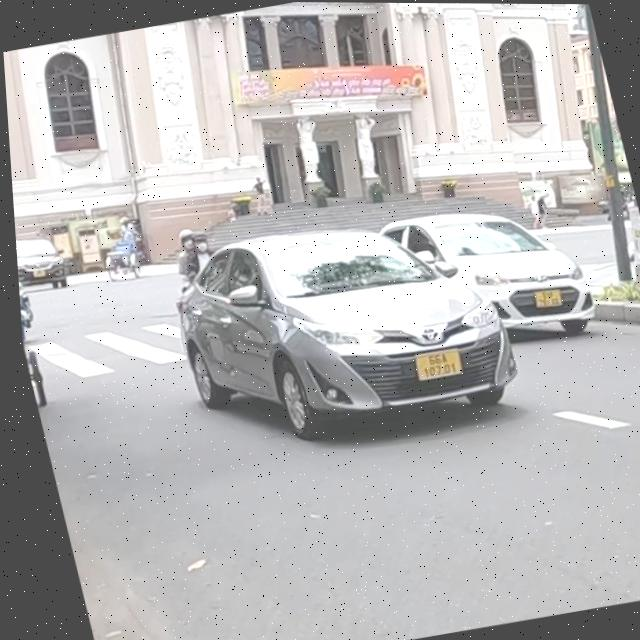car: (155, 194, 535, 475), (367, 174, 609, 366)
plate: (407, 338, 468, 387), (529, 278, 568, 314)
